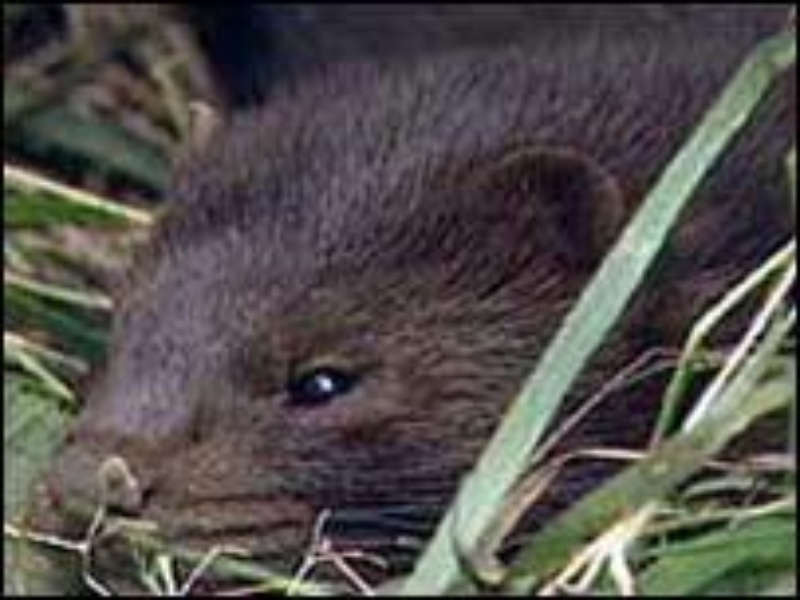minkish: (52, 4, 784, 574)
